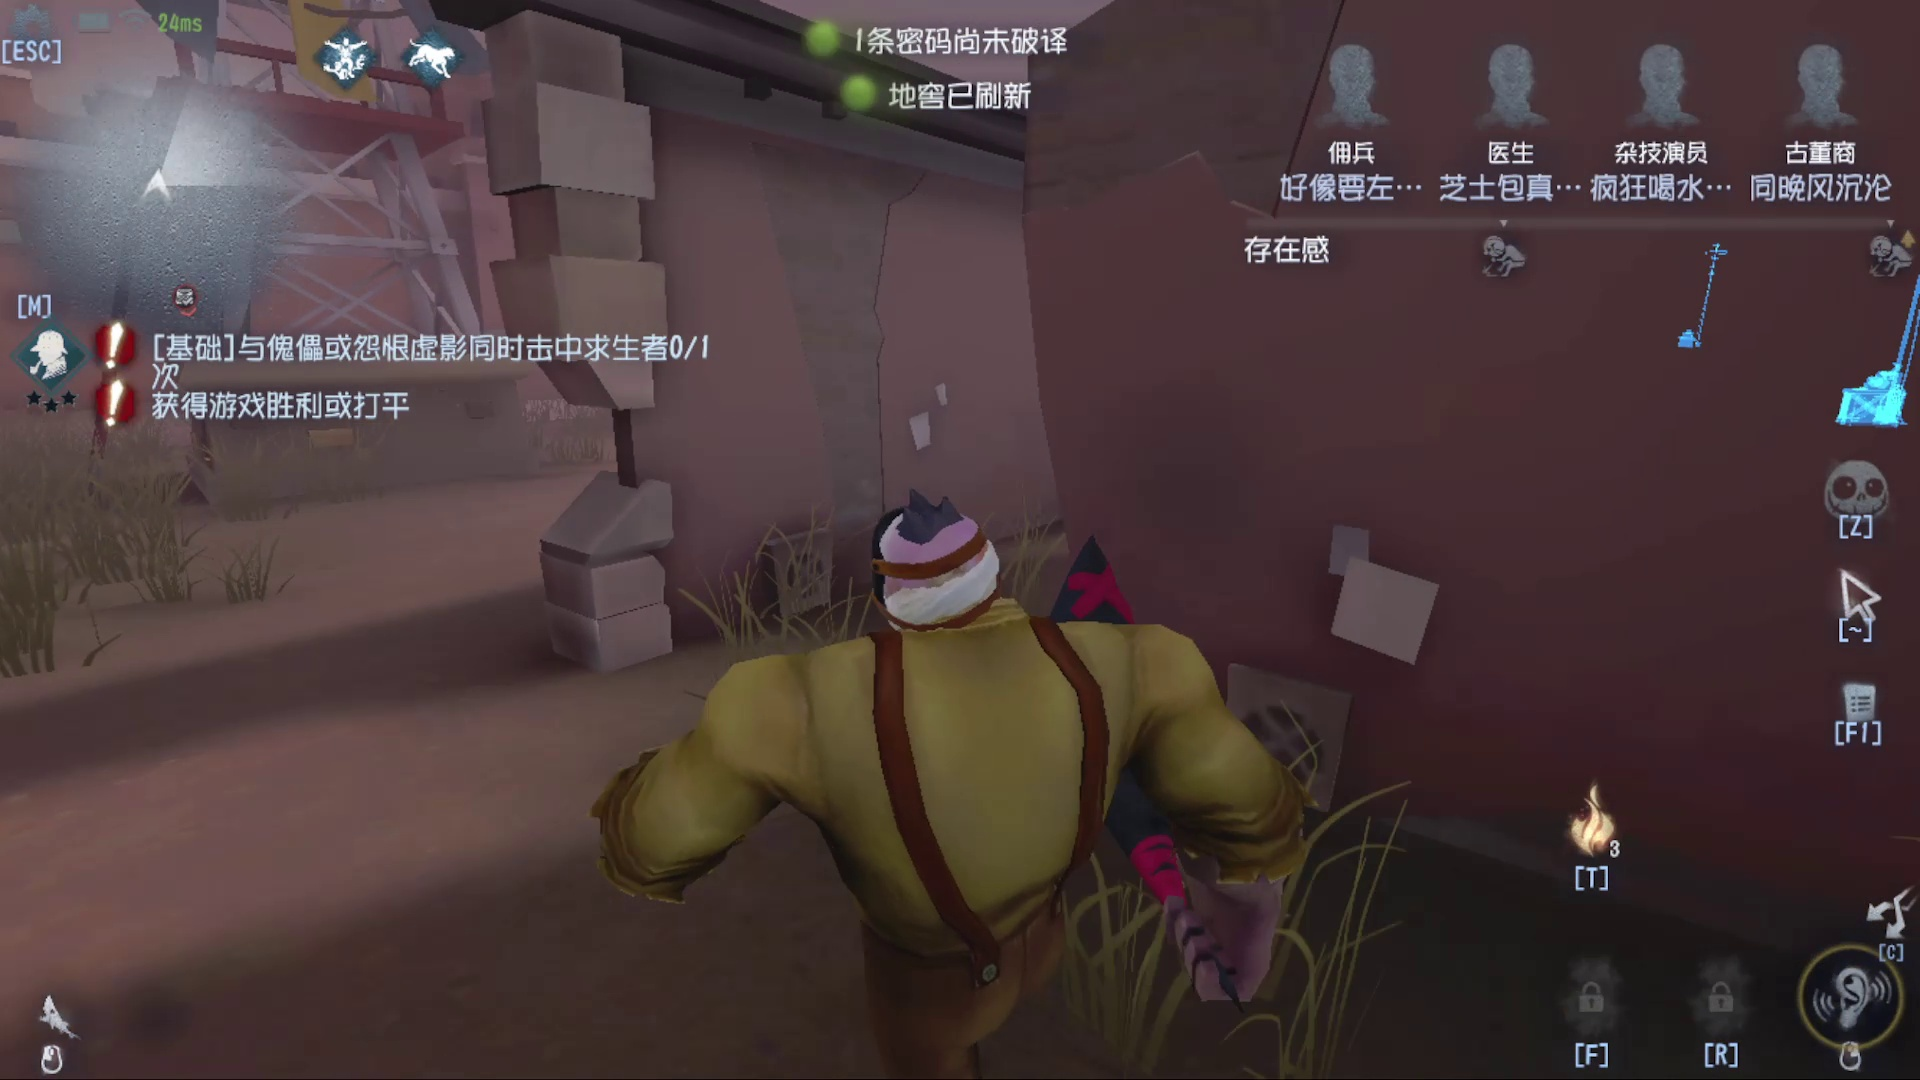密码机: (1812, 256, 1920, 426), (1658, 231, 1746, 376)
